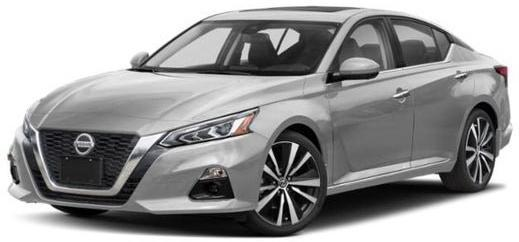Cars: (9, 7, 513, 235)
